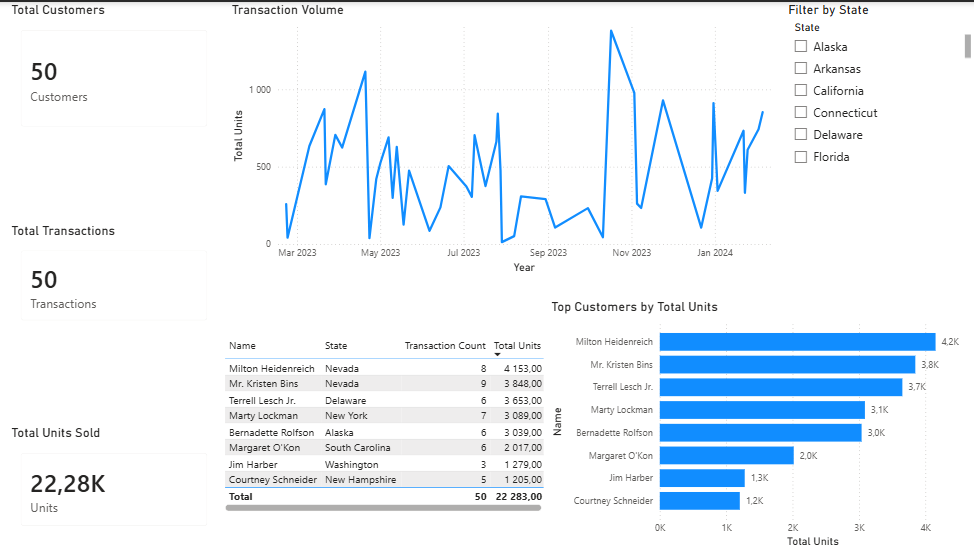

This screenshot's page, from the dashboard's own definition file:
{"tool":"powerbi","page":{"name":"Page 1","canvas":[1280,720],"ordinal":0},"visuals":[{"type":"cardVisual","title":"Total Customers","fields":{"Data":["Count(dim_customers.customer_id)"]},"box":[9.8,0,279.5,181.1],"z":0},{"type":"cardVisual","title":"Total Transactions","fields":{"Data":["CountNonNull(fact_transactions.transaction_id)"]},"box":[9.8,289.3,279.5,145.6],"z":1000},{"type":"cardVisual","title":"Total Units Sold","fields":{"Data":["Sum(fact_transactions.units)"]},"box":[9.8,555,279.5,149.6],"z":2000},{"type":"lineChart","title":"Daily Transaction Volume","fields":{"Category":["fact_transactions.transaction_datetime.Variation.Date Hierarchy.Year","fact_transactions.transaction_datetime.Variation.Date Hierarchy.Quarter","fact_transactions.transaction_datetime.Variation.Date Hierarchy.Month","fact_transactions.transaction_datetime.Variation.Date Hierarchy.Day"],"Y":["Sum(fact_transactions.units)"]},"box":[299.2,0,730.2,360.2],"z":3000},{"type":"tableEx","fields":{"Values":["dim_customers.name","dim_customers.state","fact_transactions.transaction_id","Sum(fact_transactions.units)"]},"box":[289.3,435,429.1,238.2],"z":4000},{"type":"barChart","title":"Top Customers by Total Units","fields":{"Category":["dim_customers.name"],"Y":["Sum(fact_transactions.units)"]},"box":[718.4,389.7,560.9,330.7],"z":5000},{"type":"slicer","title":"Filter by State","fields":{"Values":["dim_customers.state"]},"box":[1029.4,0,250,218.5],"z":6000}]}

Visuals, with their boxes in screenshot pixels (x1, y1, x2, y2), scaled from the page's 1280x720 canvas onto the 974x550 screenshot:
"Total Customers" cardVisual: box=[7, 0, 220, 138]
"Total Transactions" cardVisual: box=[7, 221, 220, 332]
"Total Units Sold" cardVisual: box=[7, 424, 220, 538]
"Daily Transaction Volume" lineChart: box=[228, 0, 783, 275]
tableEx - dim_customers.name x dim_customers.state: box=[220, 332, 547, 514]
"Top Customers by Total Units" barChart: box=[547, 298, 973, 549]
"Filter by State" slicer: box=[783, 0, 973, 167]
